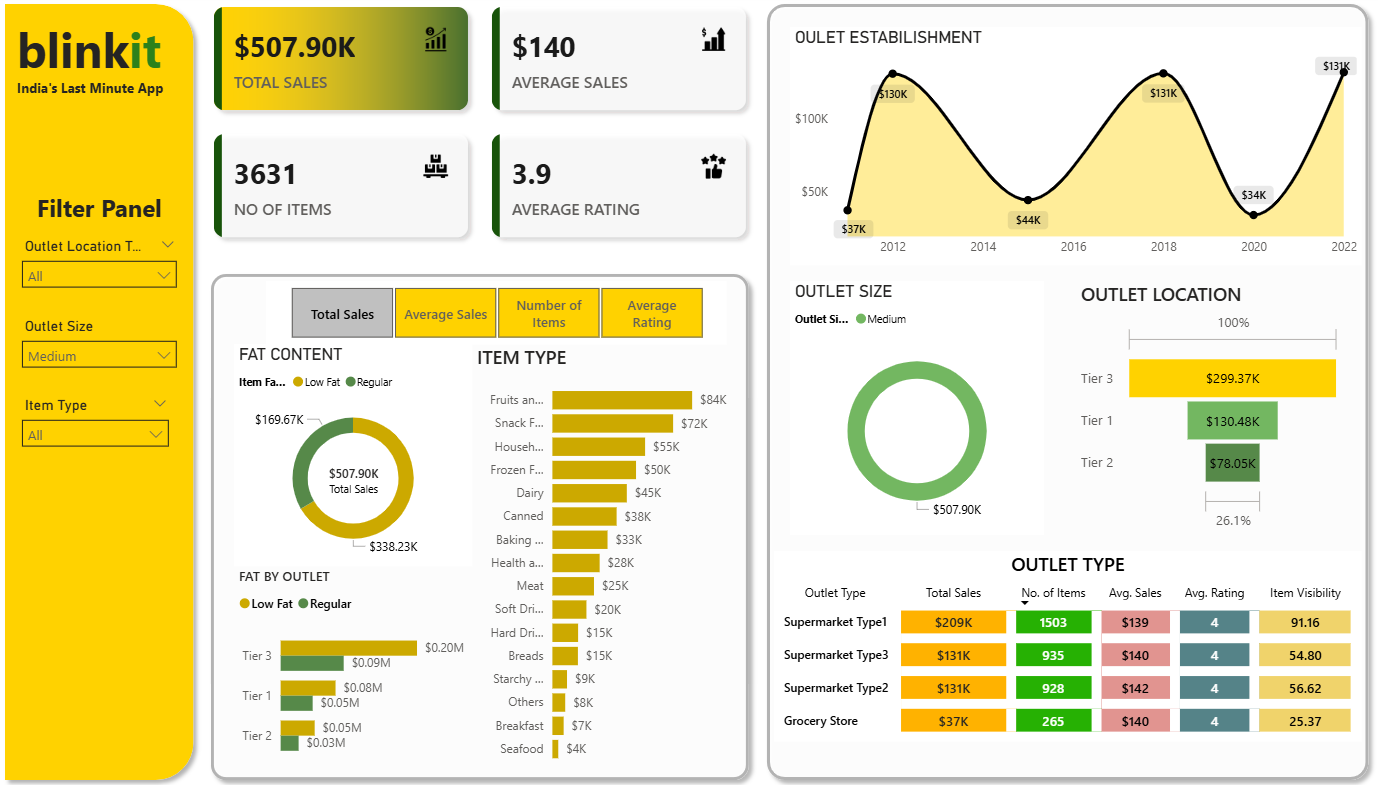

This screenshot's page, from the dashboard's own definition file:
{"tool":"powerbi","page":{"name":"Page 1","canvas":[1400,800],"ordinal":0},"visuals":[{"type":"shape","box":[0,0,208,800],"z":0},{"type":"textbox","box":[16,16,192,96],"z":1000},{"type":"textbox","box":[16,80,184,32],"z":2000},{"type":"cardVisual","fields":{"Data":["BlinkIT Grocery Data.Total Sales","BlinkIT Grocery Data.Average Sales","BlinkIT Grocery Data.Number of Items","BlinkIT Grocery Data.Average Rating"]},"box":[208,0,560,256],"z":3000},{"type":"shape","box":[208,272,560,528],"z":4000},{"type":"donutChart","title":"FAT CONTENT","fields":{"Y":["BlinkIT Grocery Data.Total Sales"],"Category":["BlinkIT Grocery Data.Item Fat Content"]},"box":[240,352,240,224],"z":5000},{"type":"slicer","fields":{"Values":["Metrics.Metrics"]},"box":[272,288,464,64],"z":6000},{"type":"cardVisual","fields":{"Data":["BlinkIT Grocery Data.Total Sales"]},"box":[312,456,96,64],"z":7000},{"type":"clusteredBarChart","title":"FAT BY OUTLET","fields":{"Y":["BlinkIT Grocery Data.Total Sales"],"Category":["BlinkIT Grocery Data.Outlet Location Type"],"Series":["BlinkIT Grocery Data.Item Fat Content"]},"box":[240,576,240,208],"z":8000},{"type":"barChart","title":"ITEM TYPE","fields":{"Y":["BlinkIT Grocery Data.Total Sales"],"Category":["BlinkIT Grocery Data.Item Type"]},"box":[480,352,272,432],"z":9000},{"type":"shape","box":[768,0,624,800],"z":10000},{"type":"lineChart","title":"OULET ESTABILISHMENT","fields":{"Category":["BlinkIT Grocery Data.Outlet Establishment Year"],"Y":["BlinkIT Grocery Data.Total Sales"]},"box":[800,32,576,240],"z":11000},{"type":"donutChart","title":"OUTLET SIZE","fields":{"Category":["BlinkIT Grocery Data.Outlet Size"],"Y":["BlinkIT Grocery Data.Total Sales"]},"box":[800,288,256,256],"z":12000},{"type":"funnel","title":"OUTLET LOCATION","fields":{"Y":["Sum(BlinkIT Grocery Data.Sales)"],"Category":["BlinkIT Grocery Data.Outlet Location Type"]},"box":[1088,288,272,256],"z":13000},{"type":"pivotTable","title":"OUTLET TYPE","fields":{"Rows":["BlinkIT Grocery Data.Outlet Type"],"Values":["BlinkIT Grocery Data.Total Sales","BlinkIT Grocery Data.Number of Items","BlinkIT Grocery Data.Average Sales","BlinkIT Grocery Data.Average Rating","Sum(BlinkIT Grocery Data.Item Visibility)"]},"box":[784,560,592,192],"z":14000},{"type":"slicer","fields":{"Values":["BlinkIT Grocery Data.Outlet Location Type"]},"box":[16,240,176,80],"z":14001},{"type":"slicer","fields":{"Values":["BlinkIT Grocery Data.Outlet Size"]},"box":[16,320,176,80],"z":14002},{"type":"slicer","fields":{"Values":["BlinkIT Grocery Data.Item Type"]},"box":[16,400,168,80],"z":14003},{"type":"textbox","box":[16,192,176,48],"z":14004}]}

Visuals, with their boxes in screenshot pixels (x1, y1, x2, y2), scaled from the page's 1400x800 canvas onto the 1378x785 screenshot:
shape: x1=0 y1=0 x2=205 y2=784
textbox: x1=16 y1=16 x2=205 y2=110
textbox: x1=16 y1=78 x2=197 y2=110
cardVisual - BlinkIT Grocery Data.Total Sales x BlinkIT Grocery Data.Average Sales: x1=205 y1=0 x2=756 y2=251
shape: x1=205 y1=267 x2=756 y2=784
"FAT CONTENT" donutChart: x1=236 y1=345 x2=472 y2=565
slicer - Metrics.Metrics: x1=268 y1=283 x2=724 y2=345
cardVisual - BlinkIT Grocery Data.Total Sales: x1=307 y1=447 x2=402 y2=510
"FAT BY OUTLET" clusteredBarChart: x1=236 y1=565 x2=472 y2=769
"ITEM TYPE" barChart: x1=472 y1=345 x2=740 y2=769
shape: x1=756 y1=0 x2=1370 y2=784
"OULET ESTABILISHMENT" lineChart: x1=787 y1=31 x2=1354 y2=267
"OUTLET SIZE" donutChart: x1=787 y1=283 x2=1039 y2=534
"OUTLET LOCATION" funnel: x1=1071 y1=283 x2=1339 y2=534
"OUTLET TYPE" pivotTable: x1=772 y1=550 x2=1354 y2=738
slicer - BlinkIT Grocery Data.Outlet Location Type: x1=16 y1=236 x2=189 y2=314
slicer - BlinkIT Grocery Data.Outlet Size: x1=16 y1=314 x2=189 y2=392
slicer - BlinkIT Grocery Data.Item Type: x1=16 y1=392 x2=181 y2=471
textbox: x1=16 y1=188 x2=189 y2=236
